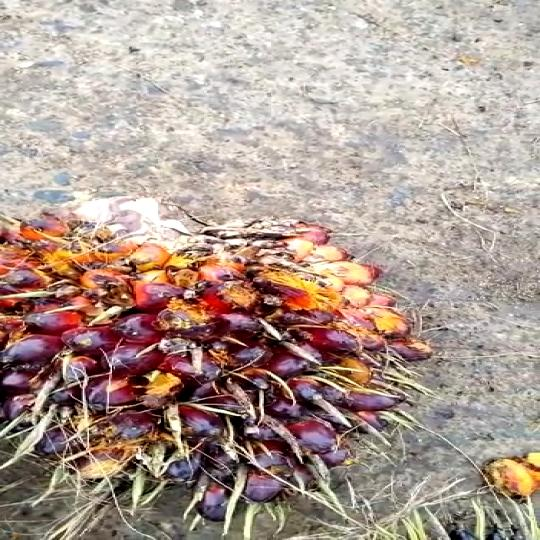masak: (0, 185, 450, 538)
